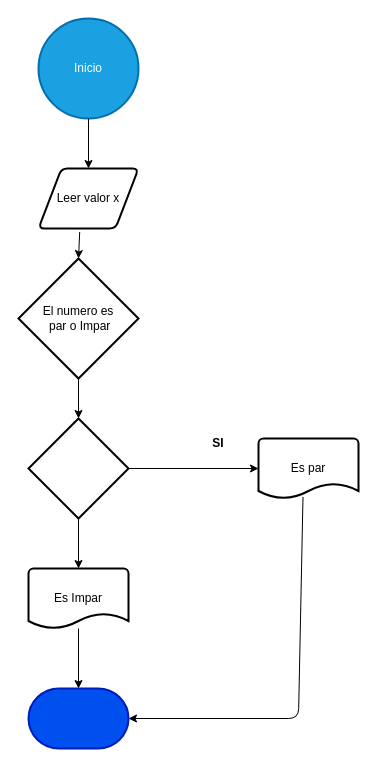
Some shapes in this 376 by 766 pixel diagram are drawn without their labels. The shapes that lost their labels are listed below. From the top down, each one's box as (x1, y1, x2, y2) in pixels, then its label:
(27, 417, 129, 519): es divicible por 2
(27, 687, 129, 749): Fin
